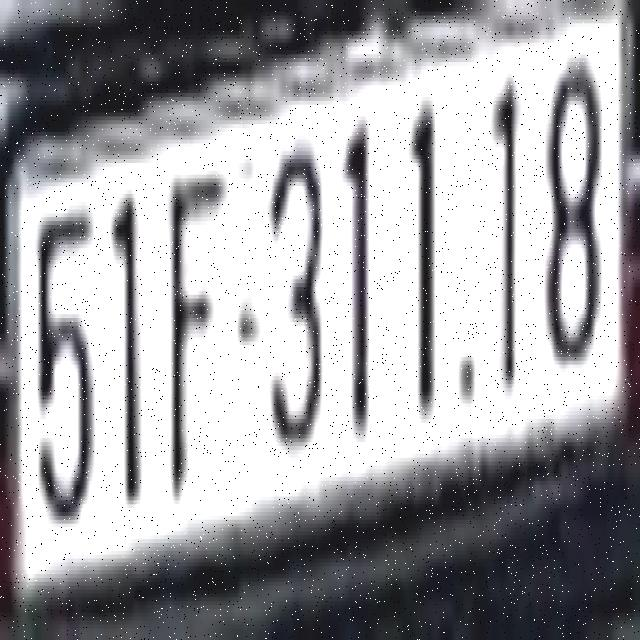1: (110, 176, 144, 514), (342, 110, 372, 432), (491, 71, 518, 394), (410, 93, 437, 415)
3: (268, 130, 324, 460)
5: (35, 190, 95, 531)
8: (547, 50, 601, 372)
F: (168, 154, 226, 498)
